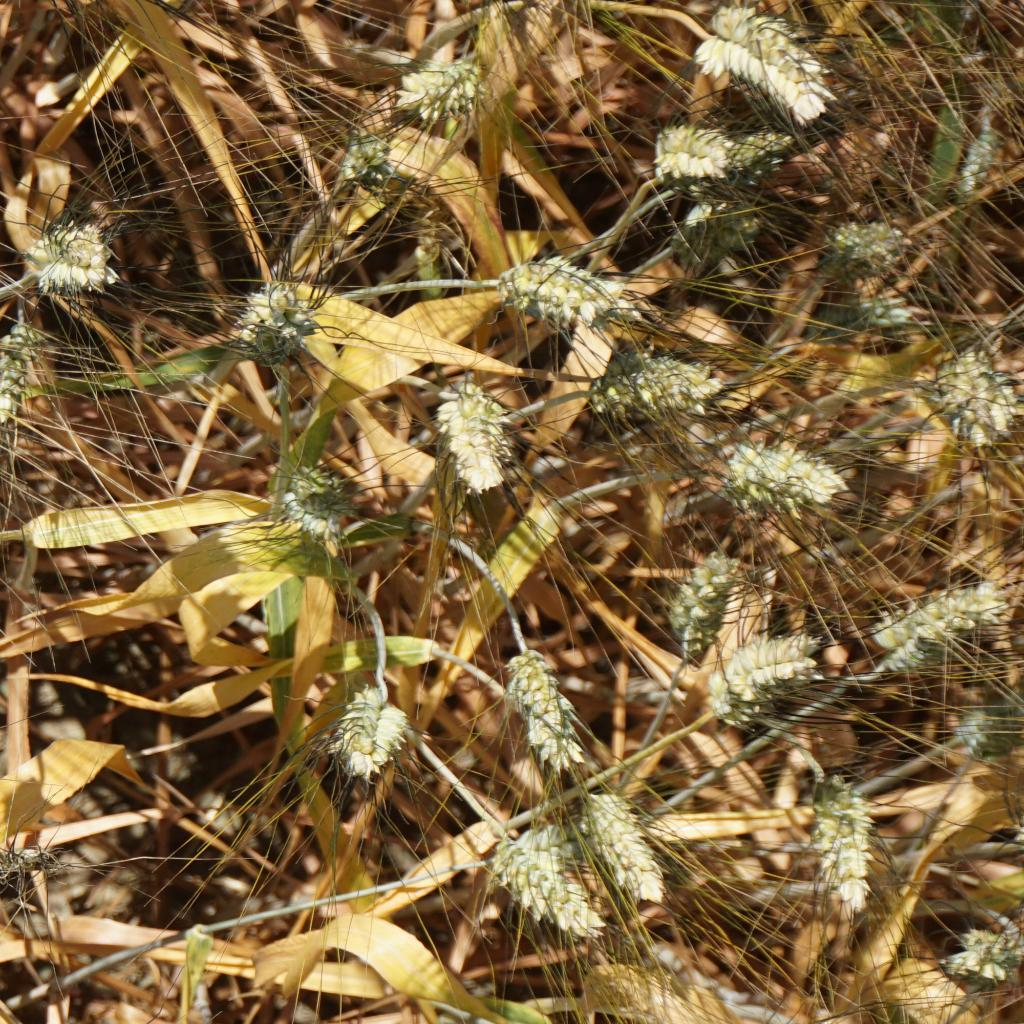0-0: (681, 621, 851, 747), (681, 3, 835, 119), (484, 817, 595, 943), (576, 784, 668, 903), (645, 195, 787, 265), (508, 647, 587, 769), (876, 572, 985, 659), (800, 773, 870, 904), (662, 550, 739, 667), (11, 210, 113, 298), (788, 281, 928, 345), (439, 369, 512, 490), (490, 251, 624, 316), (943, 341, 1020, 442), (327, 672, 402, 773), (588, 352, 709, 413), (393, 51, 486, 128), (735, 446, 846, 503), (943, 920, 1019, 988), (237, 285, 307, 352), (945, 118, 994, 207), (654, 112, 722, 176), (290, 460, 348, 533), (335, 124, 400, 186), (0, 323, 35, 429), (728, 116, 786, 177), (828, 214, 907, 257)
